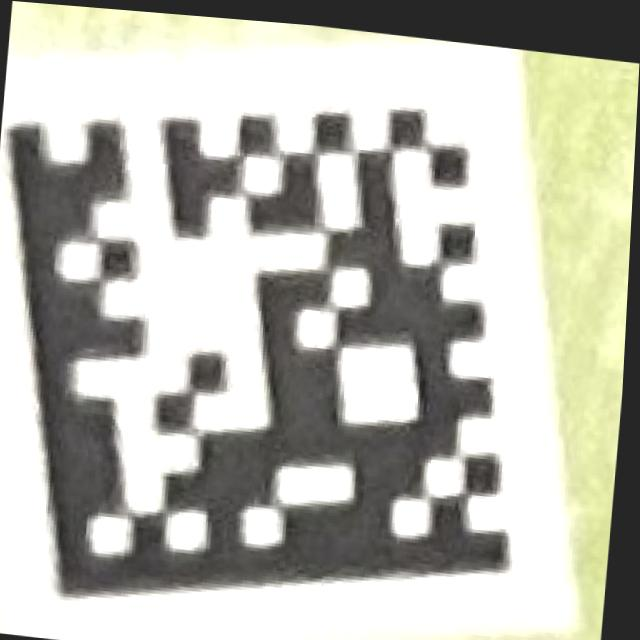QR_CODE: (0, 57, 554, 640)
